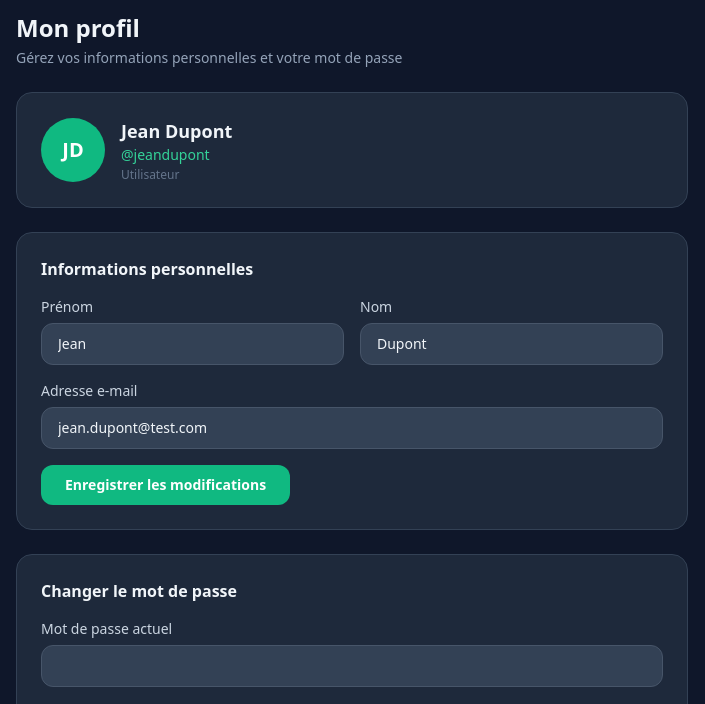
it: ProfilePage › Formulaire informations personnelles › affiche le message de succès après mise à jour
Click the button "Enregistrer les modifications".
click(166, 485)  # box [41,465,290,505]
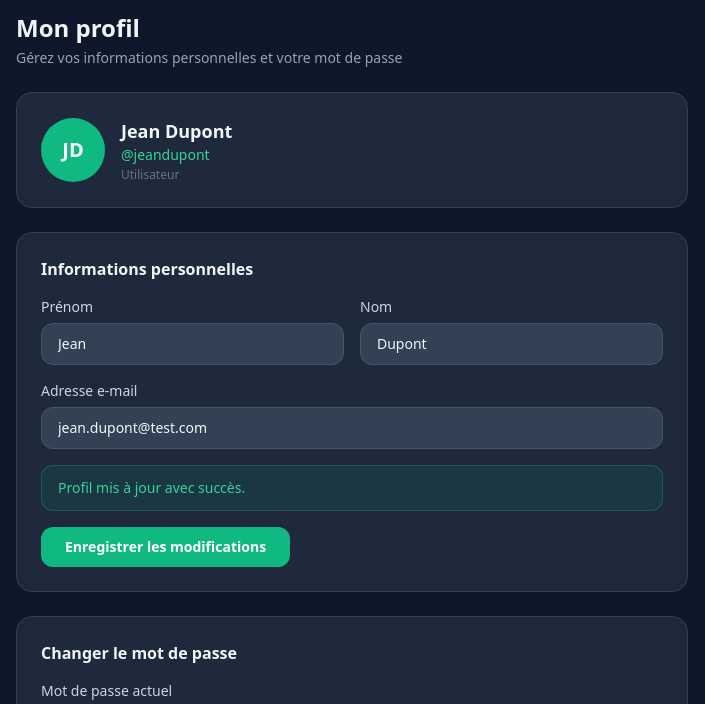
Now the text "Profil mis à jour avec succès." is shown, box [41,465,663,511]
